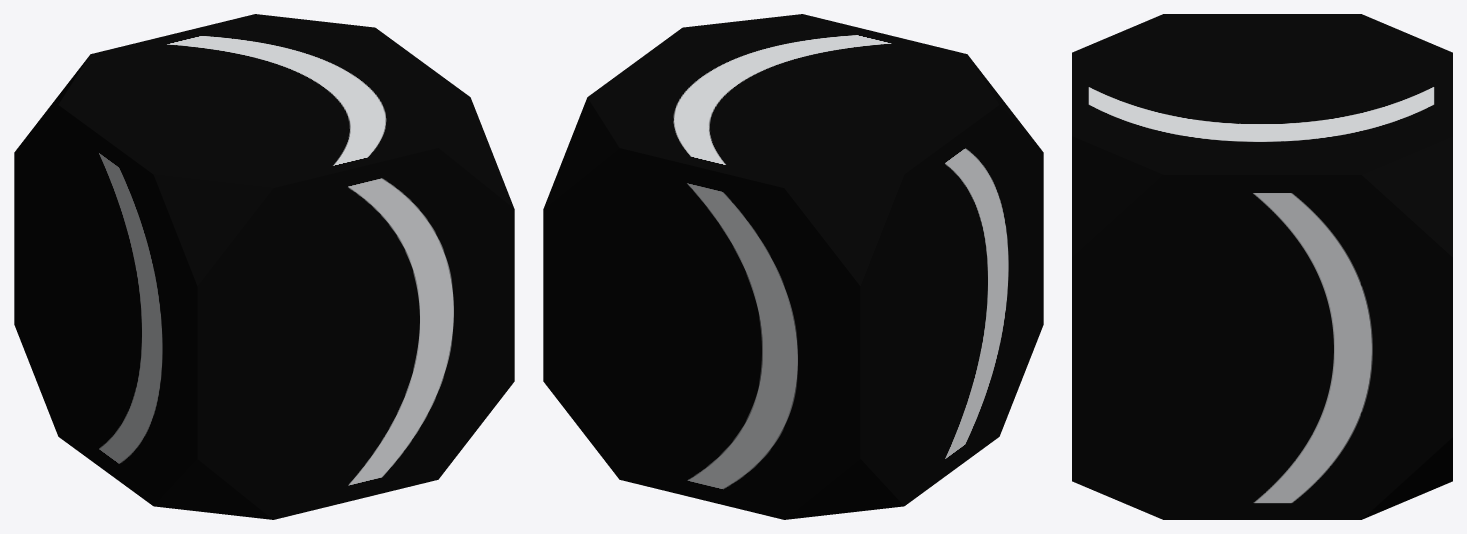
The model's file is BlockBase - Bracket2.fbx.
3 views of the same model, side by side, from view 1: azimuth 30°, elevation 25°; view 2: azimuth 150°, elevation 25°; view 3: azimuth 270°, elevation 25° (orthographic). The views are drawn at different scales.
Parts seen in each view (by area): view 1: Cube.014; view 2: Cube.014; view 3: Cube.014.
Part boxes in pixels (x1=…): Cube.014: x1=14, y1=14, x2=514, y2=519; Cube.014: x1=543, y1=14, x2=1043, y2=519; Cube.014: x1=1072, y1=14, x2=1452, y2=519.
Size of the model in its own units: 50 by 50 by 50.
1 material, 1 textured.
